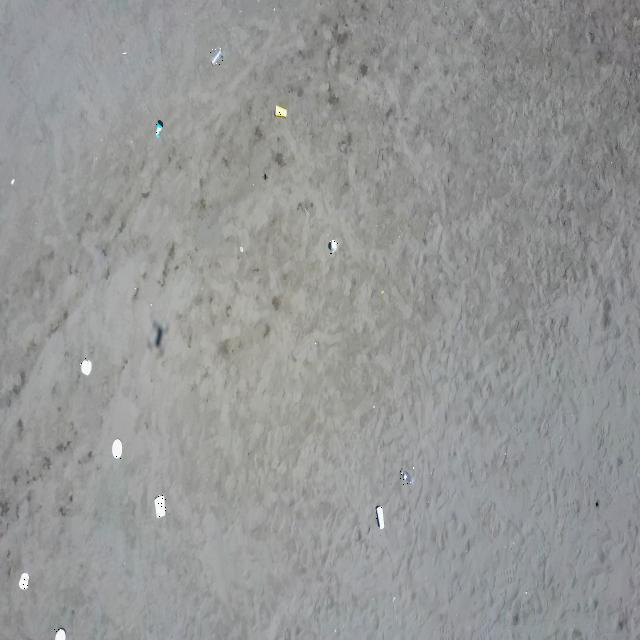take-away-containers: (154, 495, 166, 518), (112, 438, 122, 460), (80, 358, 92, 376), (18, 572, 30, 589), (54, 628, 65, 640)
takeaway-cup: (399, 467, 414, 485), (210, 46, 223, 66), (376, 505, 385, 531), (275, 105, 287, 118), (156, 119, 163, 138), (330, 238, 338, 254)
